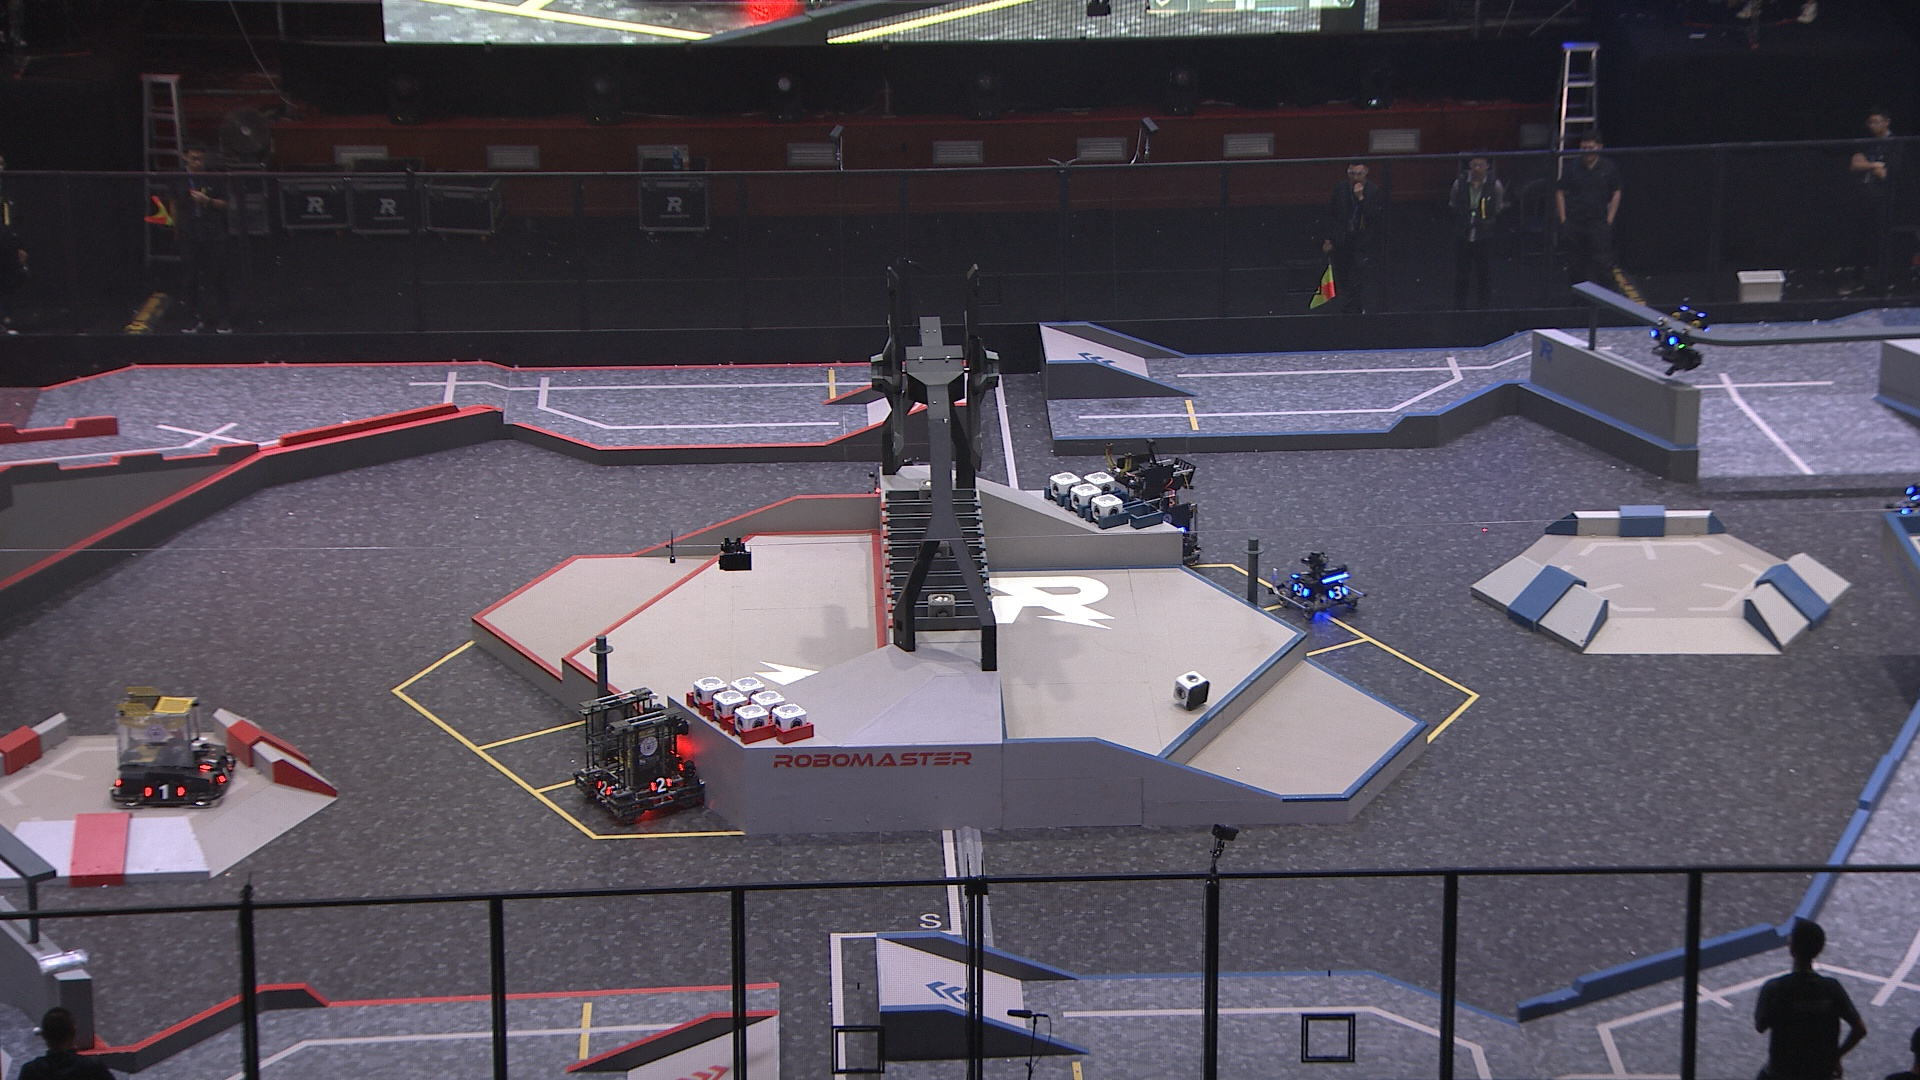armor: (141, 782, 189, 802), (1647, 327, 1679, 348), (214, 761, 237, 787), (196, 749, 222, 773), (647, 775, 675, 793), (593, 778, 615, 798), (1325, 584, 1352, 600), (1290, 582, 1311, 597)
car: (567, 684, 712, 818), (105, 684, 237, 808), (1091, 439, 1204, 570), (1269, 547, 1371, 626), (1883, 462, 1920, 531)
watcher: (1642, 294, 1718, 380)
